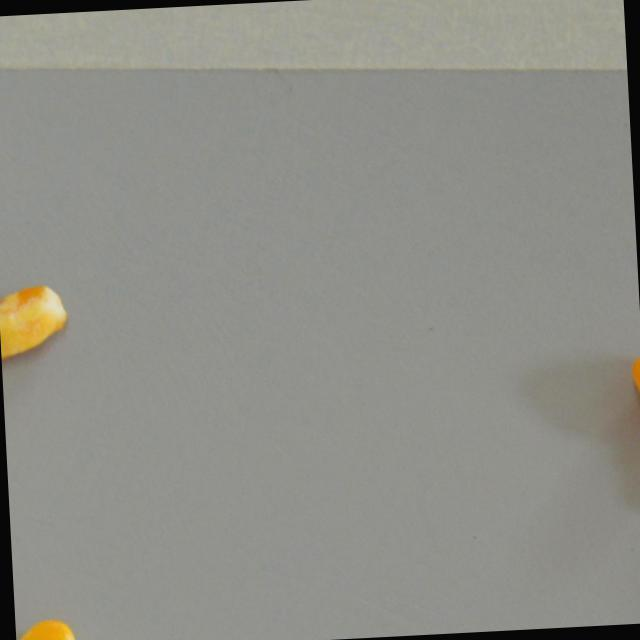dañado: (0, 281, 76, 367), (15, 617, 80, 640)
pelicula: (631, 341, 640, 440)
